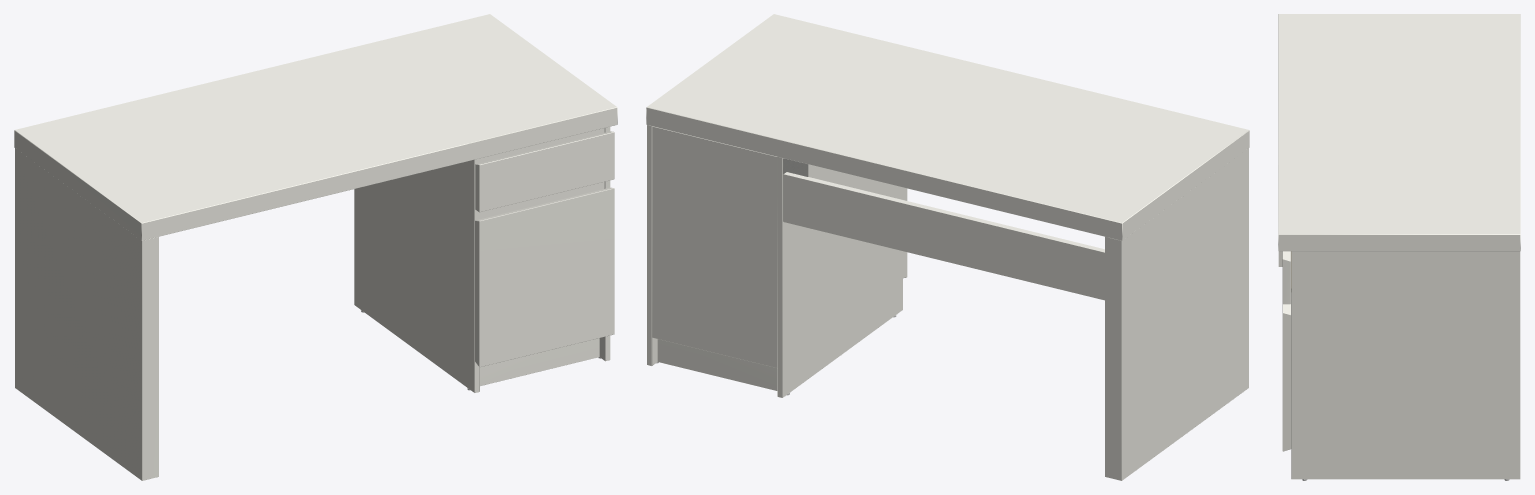
Rendered from malm.glb.
3 views of the same model, side by side, from view 1: azimuth 30°, elevation 25°; view 2: azimuth 150°, elevation 25°; view 3: azimuth 270°, elevation 25° (orthographic). The views are drawn at different scales.
Bounding box in the file's own units: 1.4 × 0.73 × 0.65.
1 material, 1 textured.
